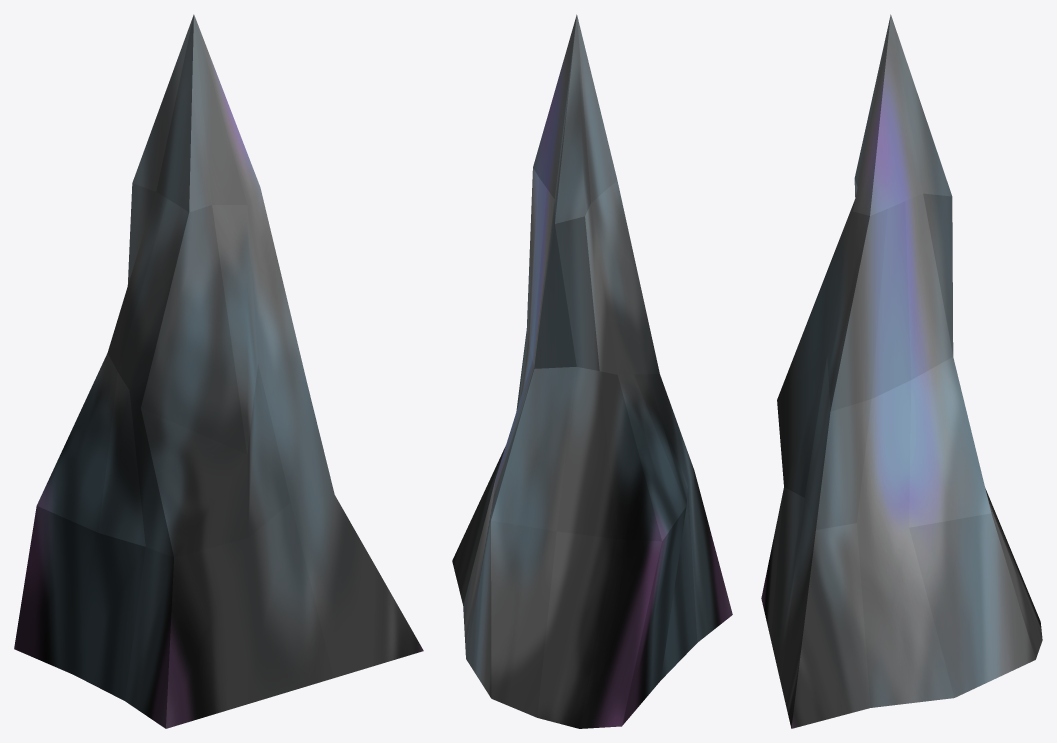
Rendered from Mountain5.fbx.
3 views of the same model, side by side, from view 1: azimuth 30°, elevation 25°; view 2: azimuth 150°, elevation 25°; view 3: azimuth 270°, elevation 25° (orthographic). The views are drawn at different scales.
Visible parts, largest first — view 1: Mountain5; view 2: Mountain5; view 3: Mountain5.
Boxes of the visible parts, left/top/right/bottom form: Mountain5: left=14, top=14, right=423, bottom=728; Mountain5: left=452, top=14, right=732, bottom=728; Mountain5: left=761, top=14, right=1042, bottom=728.
Size of the model in its own units: 1132 by 2367 by 935.
